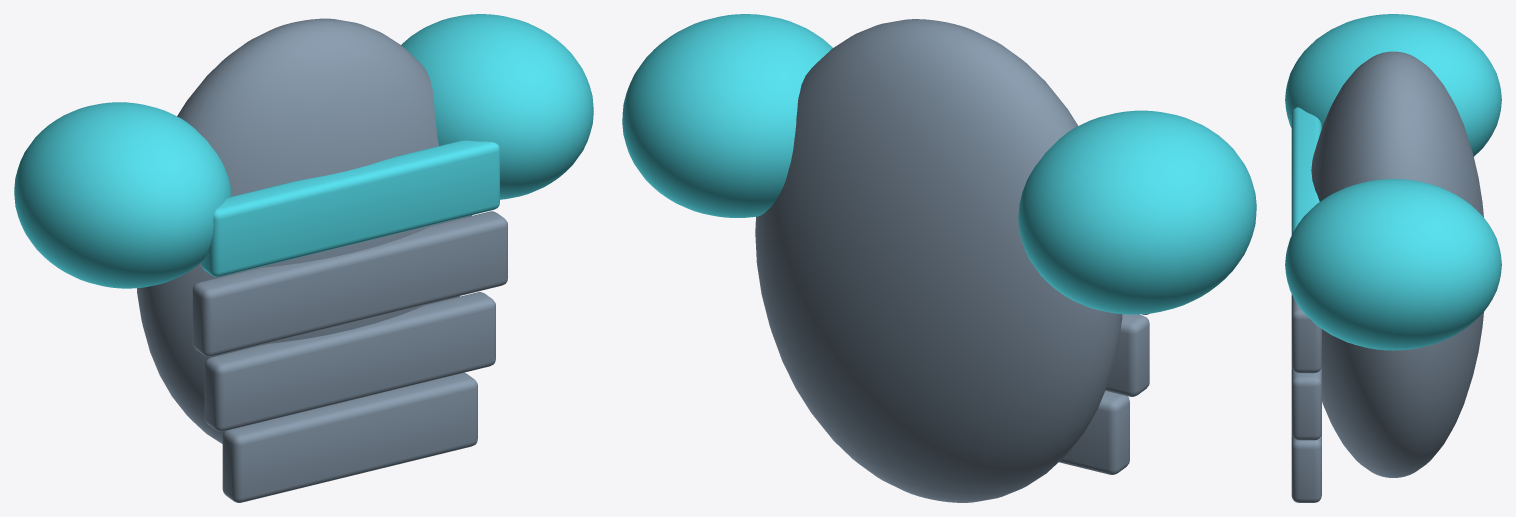
The model's file is cuirass_v3.glb.
3 views of the same model, side by side, from view 1: azimuth 30°, elevation 25°; view 2: azimuth 150°, elevation 25°; view 3: azimuth 270°, elevation 25° (orthographic). The views are drawn at different scales.
Parts seen in each view (by area): view 1: PLATE_CHEST_PRIMARY, LAYERED_PAULDRON_ACCENT, ARTICULATED_LAME_PRIMARY, LAYERED_PAULDRON_ACCENT.001, ARTICULATED_LAME_ACCENT, ARTICULATED_LAME_PRIMARY.001, ARTICULATED_LAME_PRIMARY.002; view 2: PLATE_CHEST_PRIMARY, LAYERED_PAULDRON_ACCENT, LAYERED_PAULDRON_ACCENT.001, ARTICULATED_LAME_PRIMARY.002, ARTICULATED_LAME_PRIMARY.001; view 3: PLATE_CHEST_PRIMARY, LAYERED_PAULDRON_ACCENT.001, LAYERED_PAULDRON_ACCENT, ARTICULATED_LAME_ACCENT, ARTICULATED_LAME_PRIMARY.001, ARTICULATED_LAME_PRIMARY.002, ARTICULATED_LAME_PRIMARY.
Boxes of the visible parts, left/top/right/bottom form: PLATE_CHEST_PRIMARY: left=137, top=18, right=471, bottom=443; LAYERED_PAULDRON_ACCENT: left=14, top=102, right=231, bottom=288; ARTICULATED_LAME_PRIMARY: left=192, top=211, right=507, bottom=356; LAYERED_PAULDRON_ACCENT.001: left=401, top=14, right=593, bottom=199; ARTICULATED_LAME_ACCENT: left=200, top=140, right=499, bottom=276; ARTICULATED_LAME_PRIMARY.001: left=204, top=292, right=495, bottom=431; ARTICULATED_LAME_PRIMARY.002: left=222, top=372, right=477, bottom=502; PLATE_CHEST_PRIMARY: left=755, top=19, right=1122, bottom=502; LAYERED_PAULDRON_ACCENT: left=1018, top=110, right=1256, bottom=314; LAYERED_PAULDRON_ACCENT.001: left=622, top=14, right=832, bottom=217; ARTICULATED_LAME_PRIMARY.002: left=1059, top=391, right=1129, bottom=474; ARTICULATED_LAME_PRIMARY.001: left=1105, top=314, right=1149, bottom=396; PLATE_CHEST_PRIMARY: left=1311, top=51, right=1483, bottom=477; LAYERED_PAULDRON_ACCENT.001: left=1285, top=179, right=1501, bottom=350; LAYERED_PAULDRON_ACCENT: left=1285, top=14, right=1501, bottom=156; ARTICULATED_LAME_ACCENT: left=1291, top=107, right=1321, bottom=234; ARTICULATED_LAME_PRIMARY.001: left=1291, top=366, right=1321, bottom=440; ARTICULATED_LAME_PRIMARY.002: left=1291, top=433, right=1321, bottom=502; ARTICULATED_LAME_PRIMARY: left=1291, top=294, right=1321, bottom=373.
Size of the model in its own units: 2.72 by 2.04 by 1.
